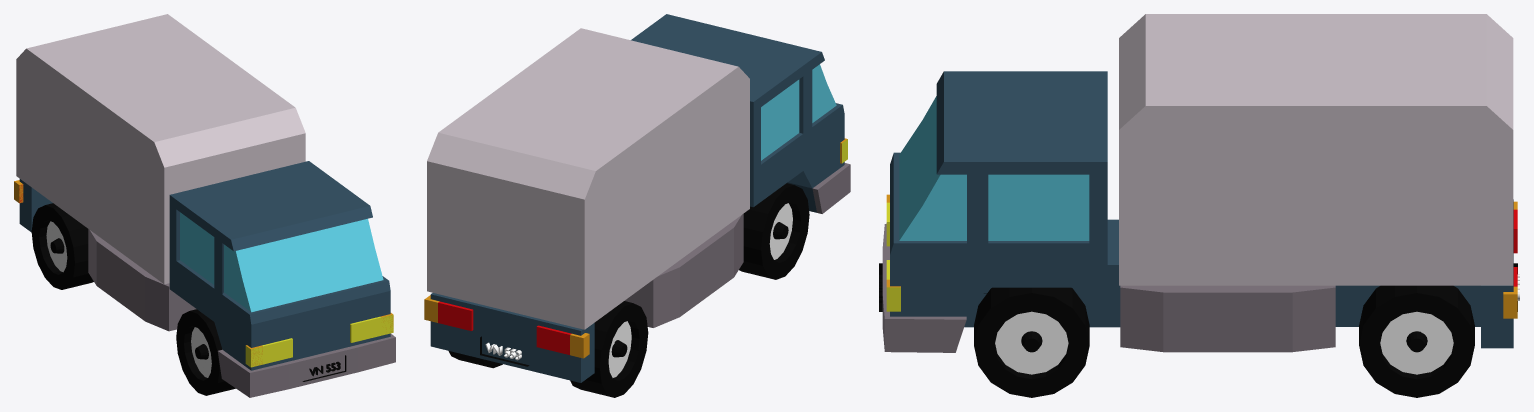
File: Big_truck.glb
3 views of the same model, side by side, from view 1: azimuth 30°, elevation 25°; view 2: azimuth 150°, elevation 25°; view 3: azimuth 270°, elevation 25° (orthographic). The views are drawn at different scales.
Parts seen in each view (by area): view 1: Pickup, Skin, BackWheel, FrontWheel_R; view 2: Pickup, Skin, FrontWheel_R, BackWheel; view 3: Pickup, Skin, BackWheel, FrontWheel_L.
Boxes of the visible parts, x1,y1,x2,y2 form: Pickup: (14,14,395,397); Skin: (19,161,390,370); BackWheel: (31,203,93,289); FrontWheel_R: (176,309,235,395); Pickup: (424,28,850,366); Skin: (430,14,844,382); FrontWheel_R: (739,183,809,279); BackWheel: (448,301,648,397); Pickup: (879,14,1519,352); Skin: (890,71,1513,348); BackWheel: (1359,285,1474,397); FrontWheel_L: (974,287,1089,397).
Size of the model in its own units: 2.64 by 3.72 by 7.39.
